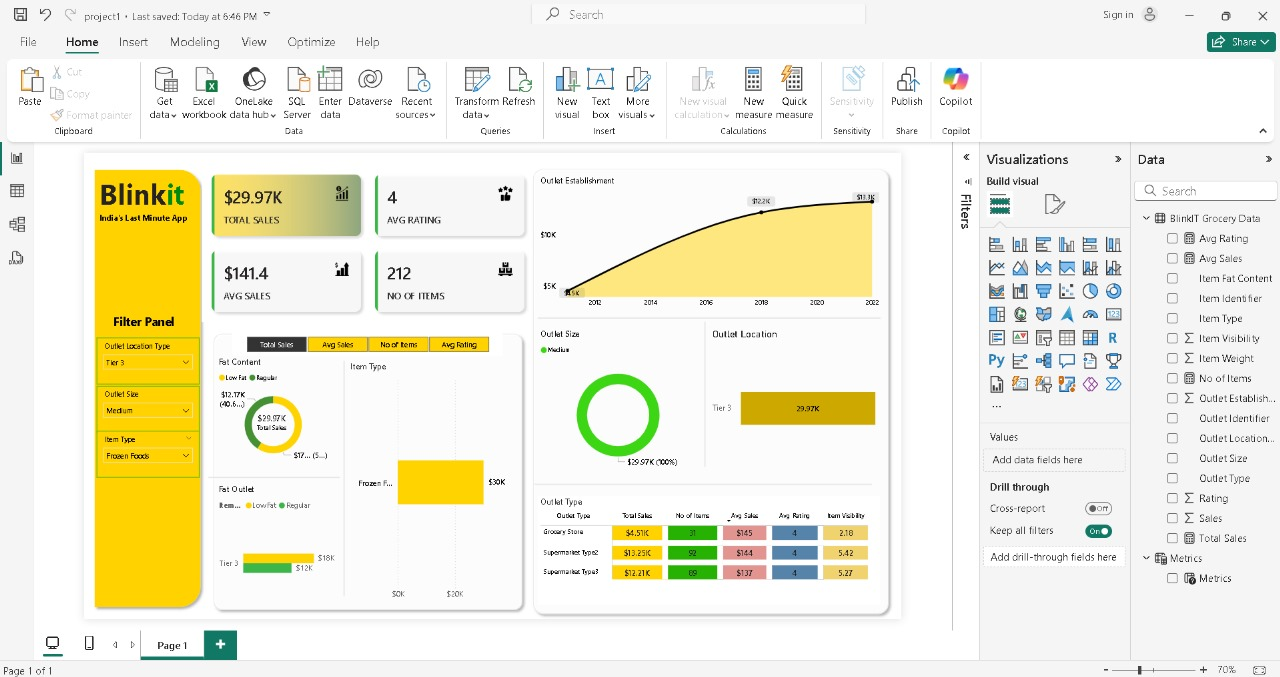

What the dashboard file says about the page in this screenshot:
{"tool":"powerbi","page":{"name":"Page 1","canvas":[1400,800],"ordinal":0},"visuals":[{"type":"shape","box":[8.3,20,200,768.3],"z":0},{"type":"textbox","box":[21.8,32.7,173.1,100.9],"z":1000},{"type":"cardVisual","fields":{"Data":["BlinkIT Grocery Data.Total Sales","BlinkIT Grocery Data.Avg Rating","BlinkIT Grocery Data.Avg Sales","BlinkIT Grocery Data.No of Items"]},"box":[201.7,20,570,270],"z":2000},{"type":"shape","box":[213.3,301.7,546.7,491.7],"z":3000},{"type":"donutChart","title":"Fat Content","fields":{"Y":["BlinkIT Grocery Data.Total Sales"],"Category":["BlinkIT Grocery Data.Item Fat Content"]},"box":[225,348.3,196.7,190],"z":4000},{"type":"slicer","fields":{"Values":["Metrics.Metrics"]},"box":[253.3,308.3,465,40],"z":5000},{"type":"cardVisual","fields":{"Data":["BlinkIT Grocery Data.Total Sales"]},"box":[275,426.7,91.7,71.7],"z":6000},{"type":"clusteredBarChart","title":"Fat Outlet","fields":{"Y":["BlinkIT Grocery Data.Total Sales"],"Category":["BlinkIT Grocery Data.Outlet Location Type"],"Series":["BlinkIT Grocery Data.Item Fat Content"]},"box":[225,566.7,213.3,221.7],"z":7000},{"type":"shape","box":[213.3,538.3,225,36.7],"z":8000},{"type":"shape","box":[438.3,356.7,13.3,403.3],"z":9000},{"type":"barChart","title":"Item Type","fields":{"Y":["BlinkIT Grocery Data.Total Sales"],"Category":["BlinkIT Grocery Data.Item Type"]},"box":[451.7,356.7,291.7,418.3],"z":10000},{"type":"shape","box":[760,18.6,627.1,781.4],"z":11000},{"type":"lineChart","title":"Outlet Establishment","fields":{"Y":["BlinkIT Grocery Data.Total Sales"],"Category":["BlinkIT Grocery Data.Outlet Establishment Year"]},"box":[777.1,38.6,590,235.7],"z":12000},{"type":"donutChart","title":"Outlet Size","fields":{"Y":["BlinkIT Grocery Data.Total Sales"],"Category":["BlinkIT Grocery Data.Outlet Size"]},"box":[777.1,301.4,275.7,251.4],"z":13000},{"type":"shape","box":[1052.9,290,21.4,248.6],"z":14000},{"type":"funnel","title":"Outlet Location","fields":{"Y":["Sum(BlinkIT Grocery Data.Sales)"],"Category":["BlinkIT Grocery Data.Outlet Location Type"]},"box":[1071.4,300,294.3,257.1],"z":15000},{"type":"shape","box":[771.4,548.6,578.6,40],"z":16000},{"type":"pivotTable","title":"Outlet Type","fields":{"Rows":["BlinkIT Grocery Data.Outlet Type"],"Values":["BlinkIT Grocery Data.Total Sales","BlinkIT Grocery Data.No of Items","BlinkIT Grocery Data.Avg Sales","BlinkIT Grocery Data.Avg Rating","Sum(BlinkIT Grocery Data.Item Visibility)"]},"box":[777.1,588.6,587.1,187.1],"z":17000},{"type":"shape","box":[777.1,277.1,587.1,12.9],"z":18000},{"type":"slicer","fields":{"Values":["BlinkIT Grocery Data.Outlet Location Type"]},"box":[21.4,317.1,175.7,80],"z":19000},{"type":"slicer","fields":{"Values":["BlinkIT Grocery Data.Outlet Size"]},"box":[21.4,400,175.7,80],"z":20000},{"type":"slicer","fields":{"Values":["BlinkIT Grocery Data.Item Type"]},"box":[21.4,477.1,175.7,80],"z":21000},{"type":"textbox","title":"Filter Panel","box":[32.9,274.3,138.6,34.3],"z":22000}]}

Visuals, with their boxes on the page's 1400x800 design canvas (x1, y1, x2, y2). These are canvas units, not pixel positions in the 1280x677 screenshot, which may show the page scaled, cropped or inside an application window:
shape: l=8, t=20, r=208, b=788
textbox: l=22, t=33, r=195, b=134
cardVisual - BlinkIT Grocery Data.Total Sales x BlinkIT Grocery Data.Avg Rating: l=202, t=20, r=772, b=290
shape: l=213, t=302, r=760, b=793
"Fat Content" donutChart: l=225, t=348, r=422, b=538
slicer - Metrics.Metrics: l=253, t=308, r=718, b=348
cardVisual - BlinkIT Grocery Data.Total Sales: l=275, t=427, r=367, b=498
"Fat Outlet" clusteredBarChart: l=225, t=567, r=438, b=788
shape: l=213, t=538, r=438, b=575
shape: l=438, t=357, r=452, b=760
"Item Type" barChart: l=452, t=357, r=743, b=775
shape: l=760, t=19, r=1387, b=800
"Outlet Establishment" lineChart: l=777, t=39, r=1367, b=274
"Outlet Size" donutChart: l=777, t=301, r=1053, b=553
shape: l=1053, t=290, r=1074, b=539
"Outlet Location" funnel: l=1071, t=300, r=1366, b=557
shape: l=771, t=549, r=1350, b=589
"Outlet Type" pivotTable: l=777, t=589, r=1364, b=776
shape: l=777, t=277, r=1364, b=290
slicer - BlinkIT Grocery Data.Outlet Location Type: l=21, t=317, r=197, b=397
slicer - BlinkIT Grocery Data.Outlet Size: l=21, t=400, r=197, b=480
slicer - BlinkIT Grocery Data.Item Type: l=21, t=477, r=197, b=557
"Filter Panel" textbox: l=33, t=274, r=172, b=309
